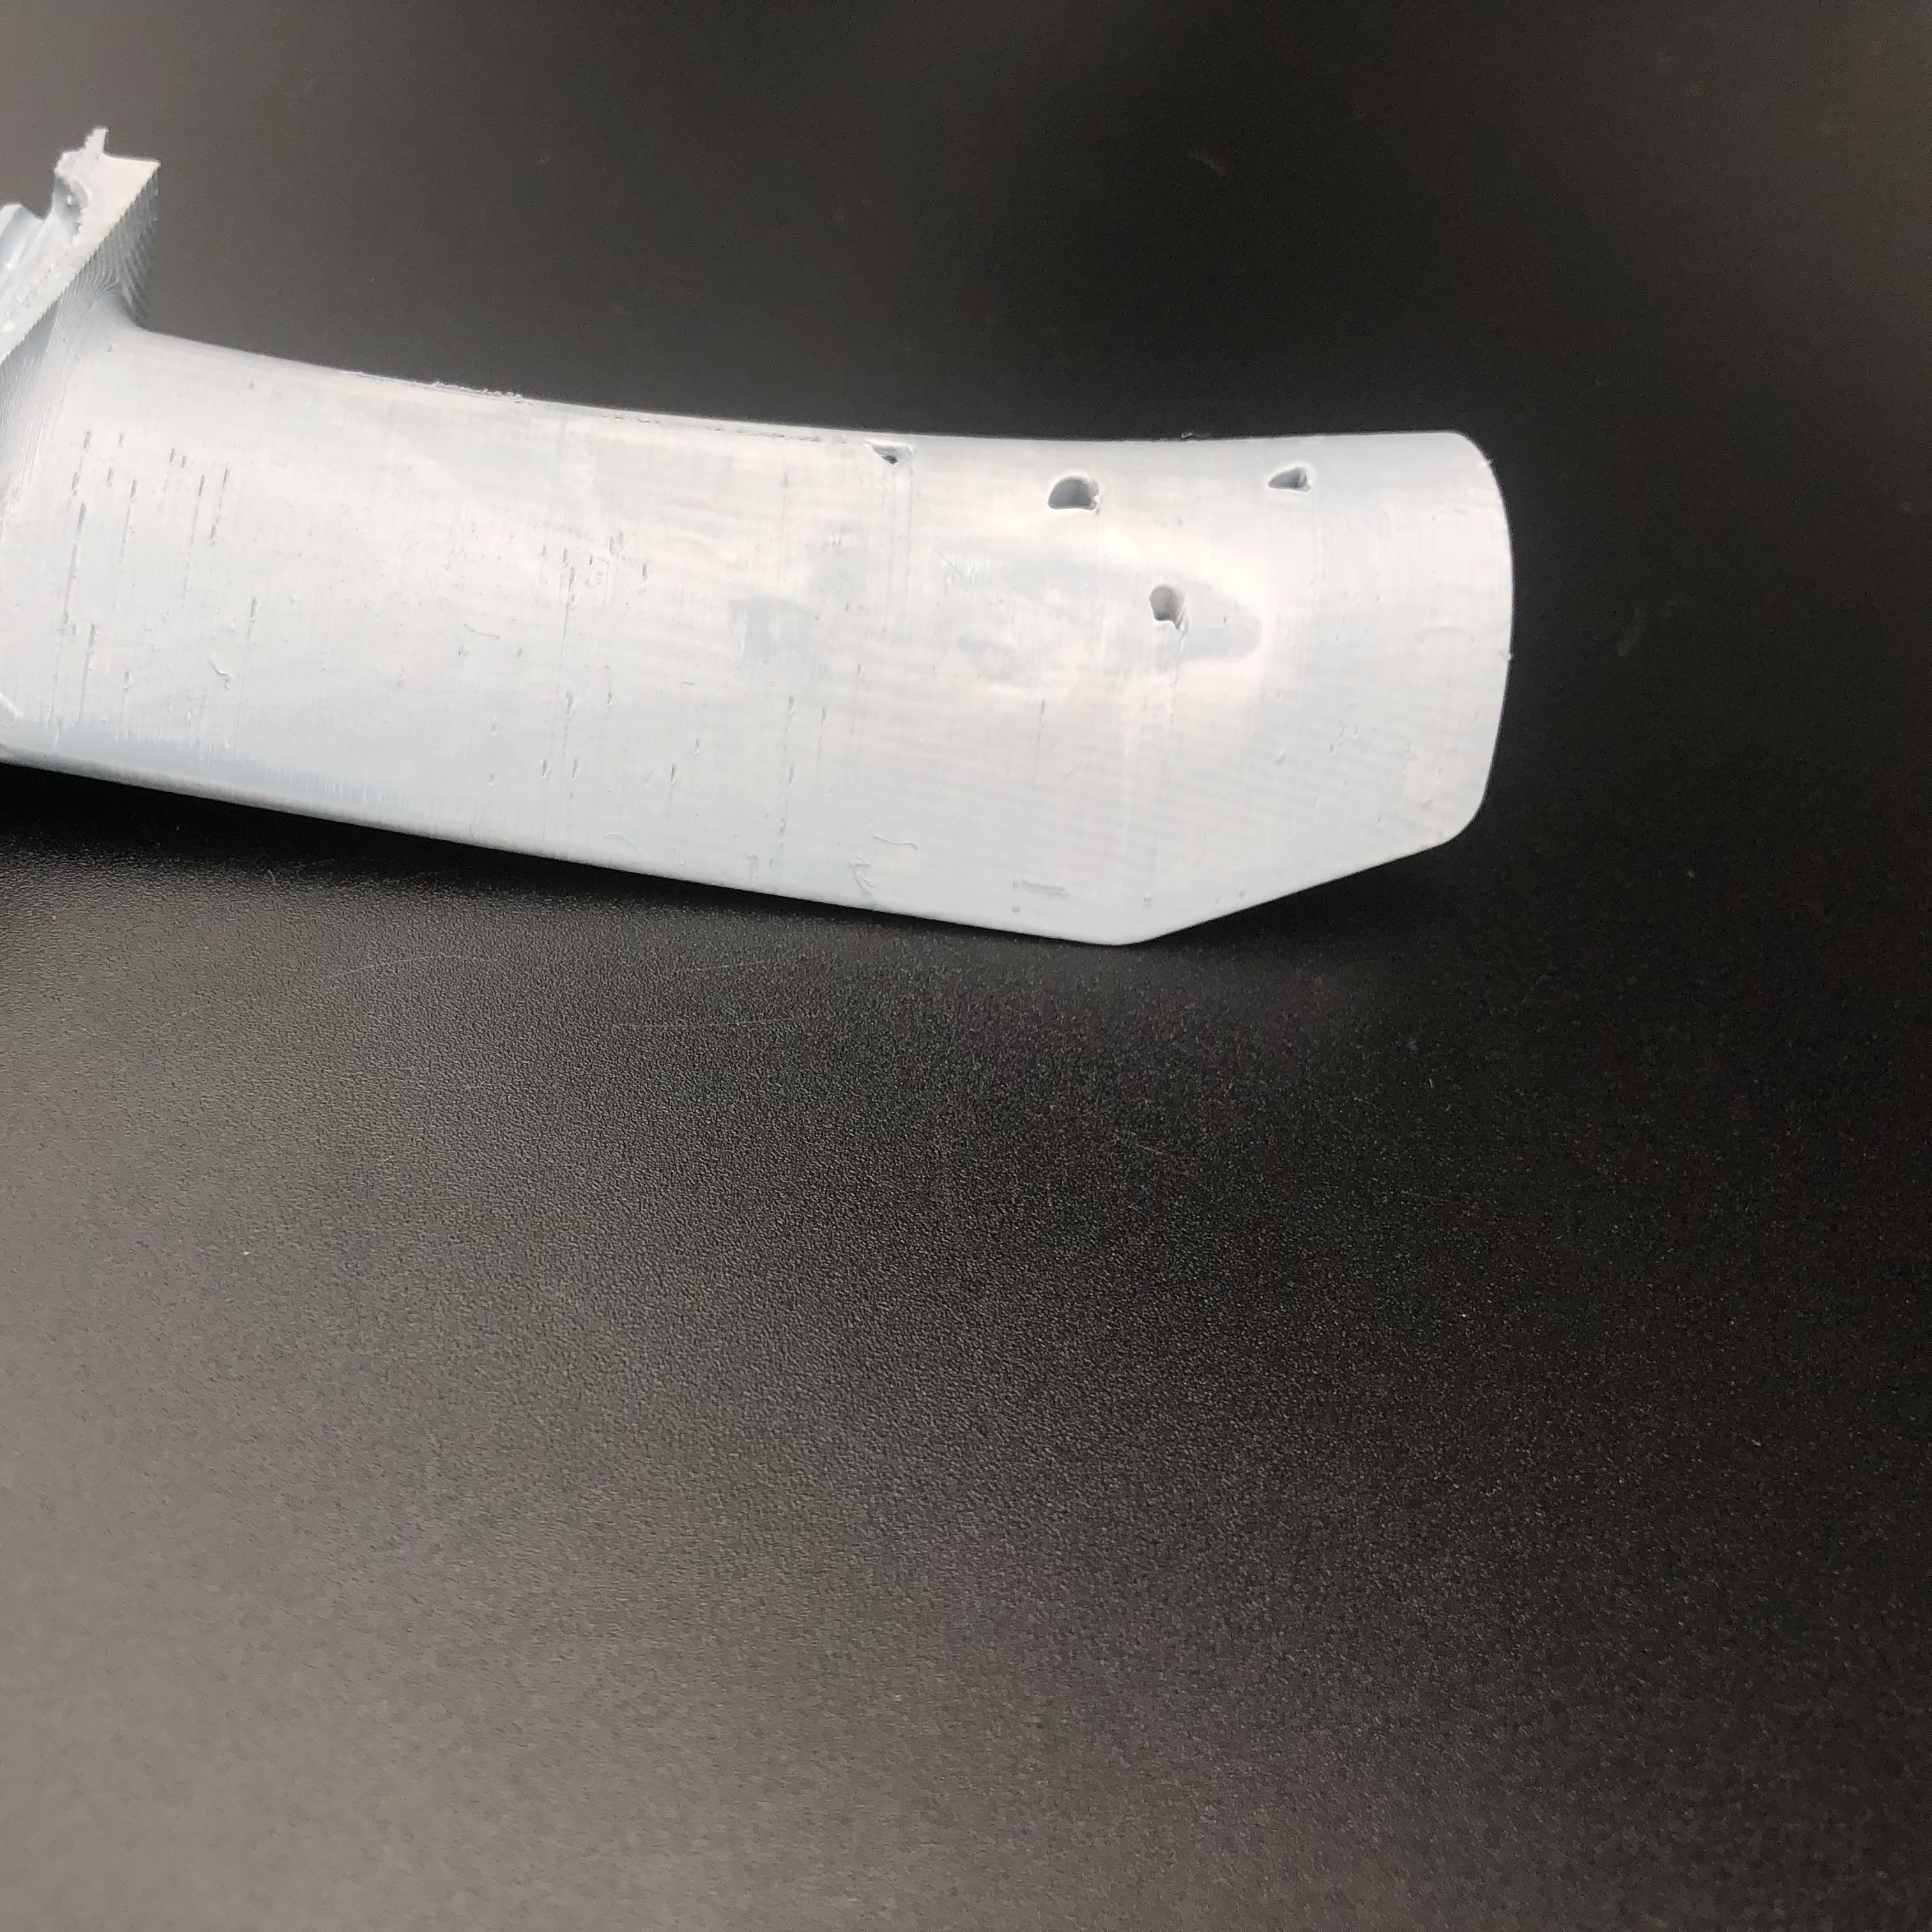breakdown: (853, 444, 1116, 534), (1136, 575, 1205, 639), (1254, 458, 1341, 508)
